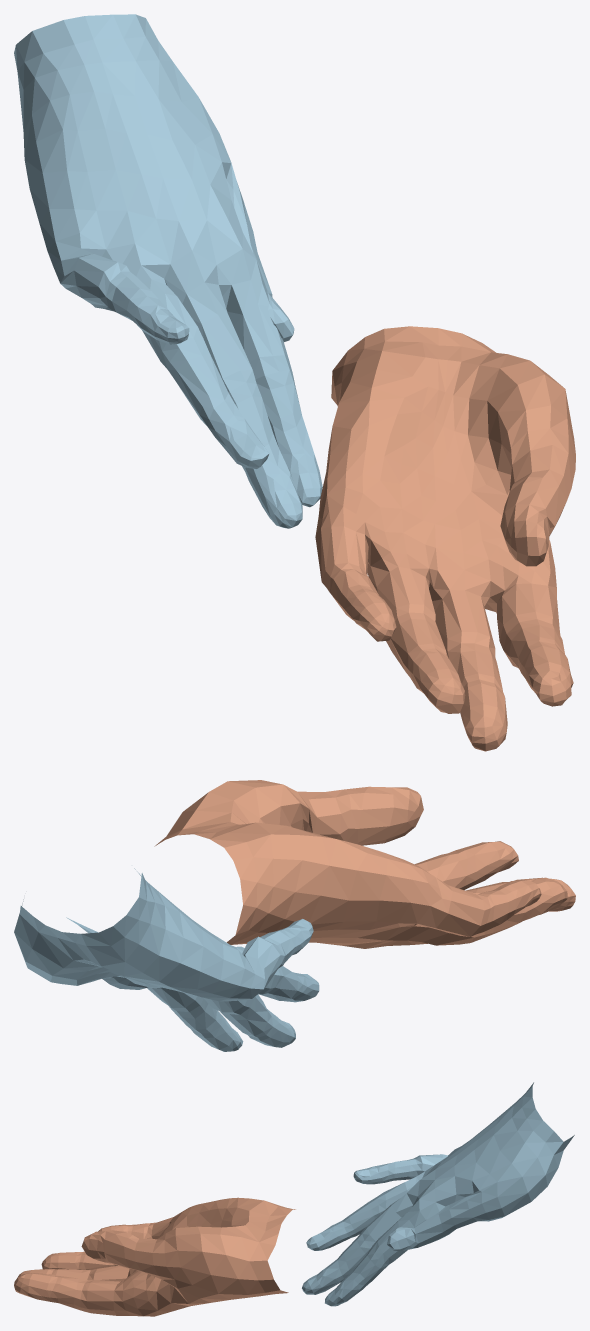
Rendered from frame_016.glb.
The picture shows the model from 3 angles, top to bottom: view 1: azimuth 30°, elevation 25°; view 2: azimuth 150°, elevation 25°; view 3: azimuth 270°, elevation 25°; orthographic projection. The views are drawn at different scales.
Visible parts, largest first — view 1: world; view 2: world; view 3: world.
Boxes of the visible parts, box(x1,y1,x2,y2) form: world: box(14, 14, 575, 751); world: box(14, 780, 575, 1051); world: box(14, 1082, 574, 1316).
Bounding box in the file's own units: 0.1029 × 0.128 × 0.2982.
